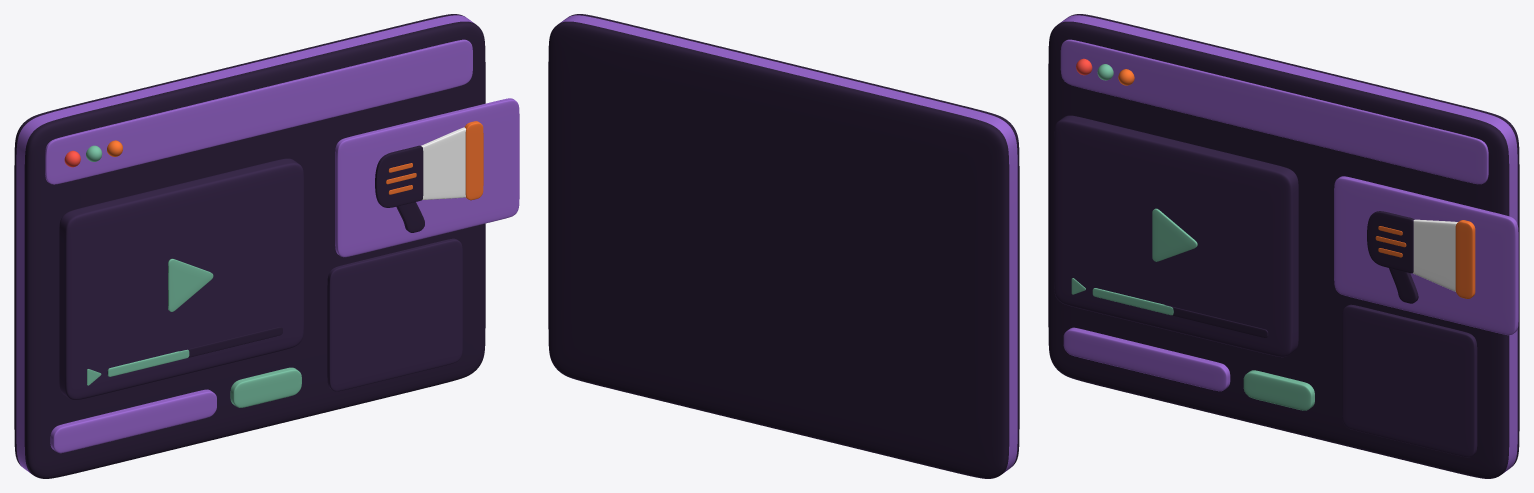
The model's file is video-marketing-3d-animated-icon-1283488288364.glb.
3 views of the same model, side by side, from view 1: azimuth 30°, elevation 25°; view 2: azimuth 150°, elevation 25°; view 3: azimuth 330°, elevation 25° (orthographic).
Parts seen in each view (by area): view 1: Cube, Cube.001, Cube.002, Cube.003, Cube.004, Cube.005, Cube.010, Cube.011, Cube.006, Cylinder.006, Cube.009, Cube.007 (+2 smaller); view 2: Cube; view 3: Cube, Cube.001, Cube.002, Cube.003, Cube.004, Cube.005, Cube.010, Cube.011, Cube.006, Cube.009, Cylinder.006, Cube.007 (+2 smaller).
Boxes of the visible parts, box(x1,y1,x2,y2) form: Cube: box(14, 14, 485, 478); Cube.001: box(59, 158, 303, 399); Cube.002: box(45, 39, 472, 184); Cube.003: box(327, 238, 462, 391); Cube.004: box(335, 98, 519, 257); Cube.005: box(50, 389, 216, 453); Cube.010: box(421, 127, 465, 199); Cube.011: box(375, 145, 423, 207); Cube.006: box(230, 367, 301, 407); Cylinder.006: box(168, 258, 213, 311); Cube.009: box(464, 121, 483, 200); Cube.007: box(107, 326, 282, 374); Cube: box(548, 14, 1019, 478); Cube: box(1048, 14, 1519, 478); Cube.001: box(1054, 115, 1298, 357); Cube.002: box(1060, 39, 1488, 184); Cube.003: box(1342, 304, 1477, 457); Cube.004: box(1334, 176, 1518, 335); Cube.005: box(1063, 327, 1230, 391); Cube.010: box(1413, 219, 1457, 291); Cube.011: box(1367, 211, 1414, 273); Cube.006: box(1243, 370, 1314, 410); Cube.009: box(1455, 220, 1475, 298); Cylinder.006: box(1152, 208, 1197, 261); Cube.007: box(1165, 305, 1268, 337).
Bounding box in the file's own units: 1.73 × 1.23 × 0.215.
